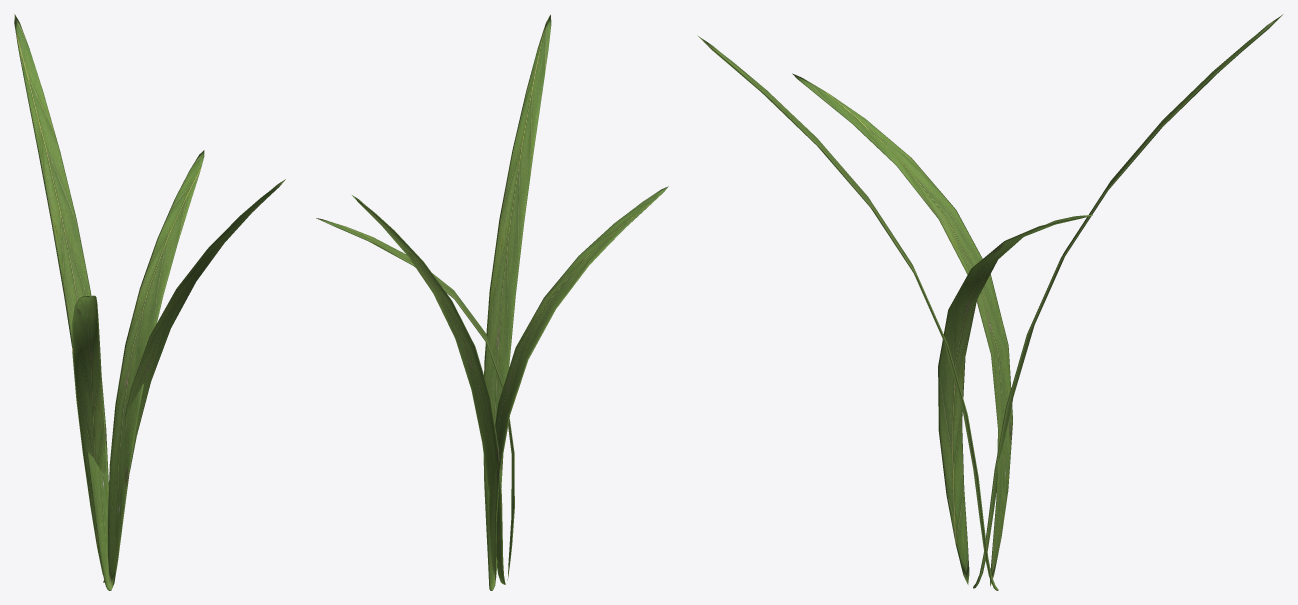
The model's file is hojasJarron.fbx.
3 views of the same model, side by side, from view 1: azimuth 30°, elevation 25°; view 2: azimuth 150°, elevation 25°; view 3: azimuth 270°, elevation 25° (orthographic). The views are drawn at different scales.
Visible parts, largest first — view 1: polySurface47, polySurface46, polySurface45, polySurface44; view 2: polySurface44, polySurface45, polySurface46, polySurface47; view 3: polySurface45, polySurface47, polySurface44, polySurface46.
Boxes of the visible parts, <box> form: polySurface47: <box>107,150,204,590</box>; polySurface46: <box>14,14,111,590</box>; polySurface45: <box>72,295,105,575</box>; polySurface44: <box>103,179,285,582</box>; polySurface44: <box>483,14,551,590</box>; polySurface45: <box>488,186,668,585</box>; polySurface46: <box>352,195,505,584</box>; polySurface47: <box>316,218,514,580</box>; polySurface45: <box>792,73,1012,586</box>; polySurface47: <box>938,215,1092,584</box>; polySurface44: <box>697,35,998,590</box>; polySurface46: <box>973,14,1283,588</box>.
Bounding box in the file's own units: 0.593 × 1.15 × 1.03.
1 material, 1 textured.
